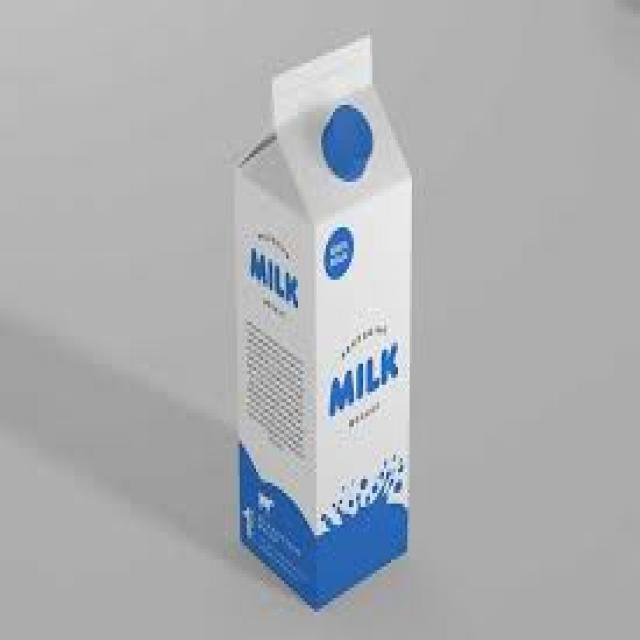non_white_jug: (198, 54, 444, 596)
